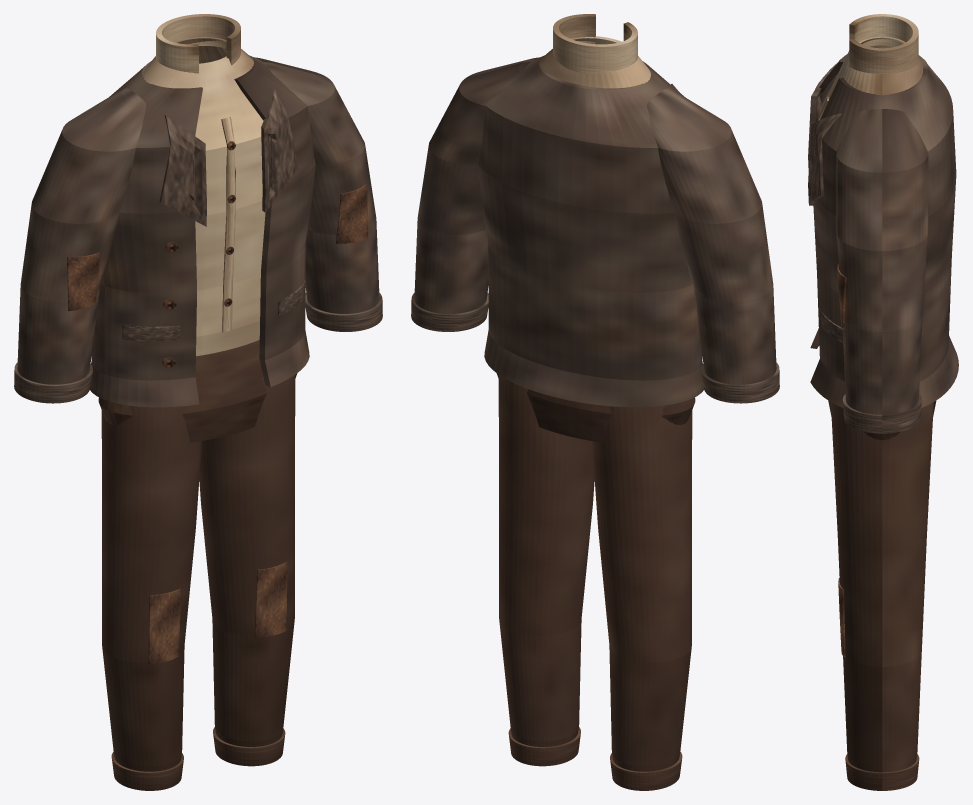
3 renders of one model, left to right at view 1: azimuth 30°, elevation 25°; view 2: azimuth 150°, elevation 25°; view 3: azimuth 270°, elevation 25°, orthographic.
Parts seen in each view (by area): view 1: outer_coat, left_trouser_leg, right_trouser_leg, left_coat_sleeve, shirt_body, right_coat_sleeve, trouser_hips, left_lapel, shirt_collar, right_lapel, right_trouser_patch, left_trouser_patch (+8 smaller); view 2: outer_coat, left_trouser_leg, right_trouser_leg, left_coat_sleeve, right_coat_sleeve, shirt_collar, trouser_hips, shirt_body, left_coat_cuff, right_coat_cuff, left_trouser_cuff, right_trouser_cuff; view 3: right_trouser_leg, right_coat_sleeve, outer_coat, shirt_collar, shirt_body, right_coat_cuff, right_trouser_cuff, right_lapel, left_lapel, right_trouser_patch, right_elbow_patch, right_pocket.
Boxes of the visible parts, x1,y1,x2,y2 form: outer_coat: [90, 55, 315, 407]; left_trouser_leg: [101, 405, 201, 771]; right_trouser_leg: [199, 375, 295, 746]; left_coat_sleeve: [17, 88, 146, 384]; shirt_body: [143, 37, 265, 356]; right_coat_sleeve: [254, 57, 379, 313]; trouser_hips: [98, 340, 297, 442]; left_lapel: [159, 115, 206, 226]; shirt_collar: [156, 14, 240, 73]; right_lapel: [261, 88, 298, 212]; right_trouser_patch: [254, 562, 287, 637]; left_trouser_patch: [148, 588, 181, 664]; outer_coat: [478, 55, 703, 407]; left_trouser_leg: [592, 405, 692, 771]; right_trouser_leg: [498, 375, 594, 746]; left_coat_sleeve: [647, 88, 776, 384]; right_coat_sleeve: [414, 57, 539, 313]; shirt_collar: [553, 14, 637, 73]; trouser_hips: [496, 373, 695, 442]; shirt_body: [540, 36, 650, 88]; left_coat_cuff: [701, 362, 779, 403]; right_coat_cuff: [411, 292, 488, 331]; left_trouser_cuff: [610, 752, 682, 790]; right_trouser_cuff: [508, 727, 580, 766]; right_trouser_leg: [831, 402, 933, 772]; right_coat_sleeve: [836, 109, 928, 414]; outer_coat: [810, 47, 958, 407]; shirt_collar: [849, 14, 918, 73]; shirt_body: [819, 36, 922, 115]; right_coat_cuff: [842, 394, 921, 433]; right_trouser_cuff: [845, 754, 919, 790]; right_lapel: [808, 113, 841, 205]; left_lapel: [808, 61, 838, 168]; right_trouser_patch: [838, 578, 845, 657]; right_elbow_patch: [837, 264, 846, 329]; right_pocket: [820, 312, 843, 342].
Bounding box in the file's own units: 58.24 × 114 × 21.64.
5 materials, 5 textured.
